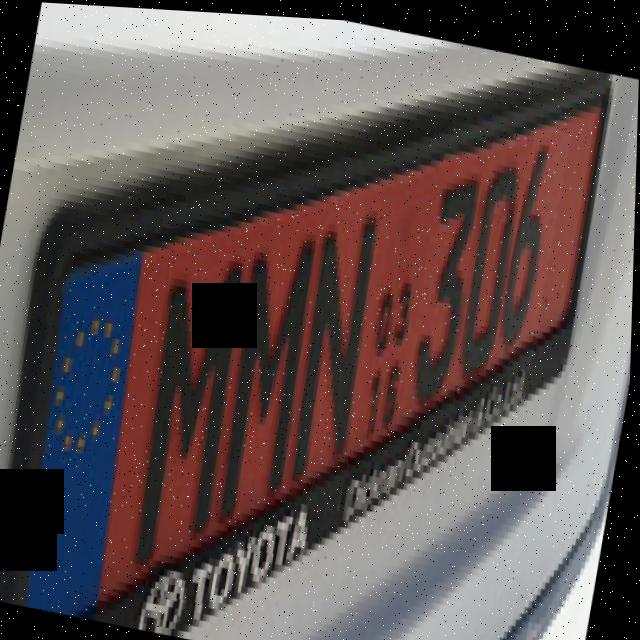0: (453, 138, 531, 379)
3: (409, 151, 485, 413)
6: (499, 126, 565, 360)
M: (131, 238, 246, 587), (218, 214, 321, 539)
N: (293, 191, 383, 500)
